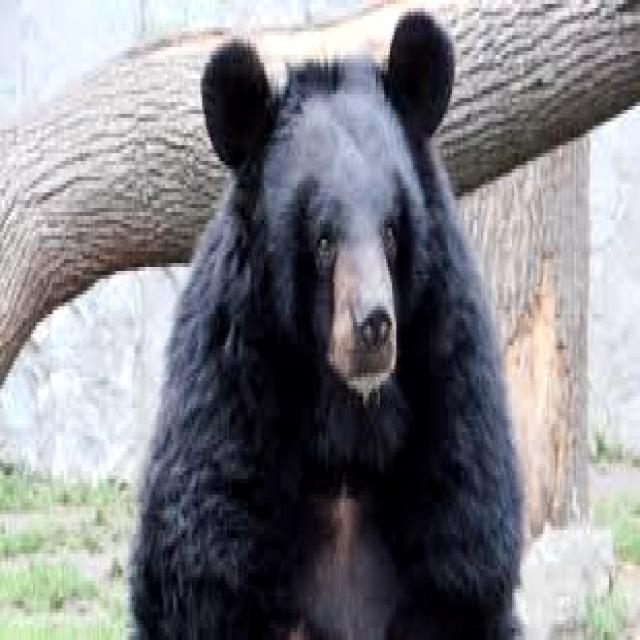bear: (133, 31, 496, 640)
